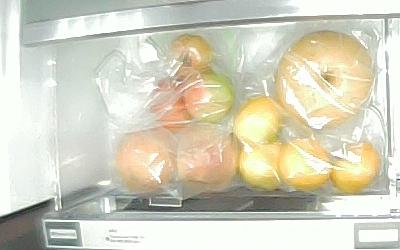peach_vinyl: (175, 124, 238, 194), (116, 127, 177, 192)
pear_vinyl: (274, 30, 372, 129)
tangerine_vinyl: (280, 137, 330, 192), (330, 141, 381, 193), (233, 96, 281, 145), (239, 140, 281, 191)
tomato_vinyl: (182, 71, 233, 124), (151, 78, 191, 131), (166, 34, 211, 80)
